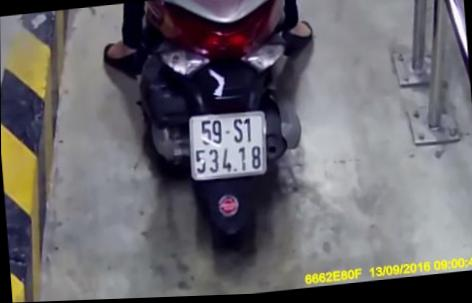LP: (186, 109, 271, 183)
